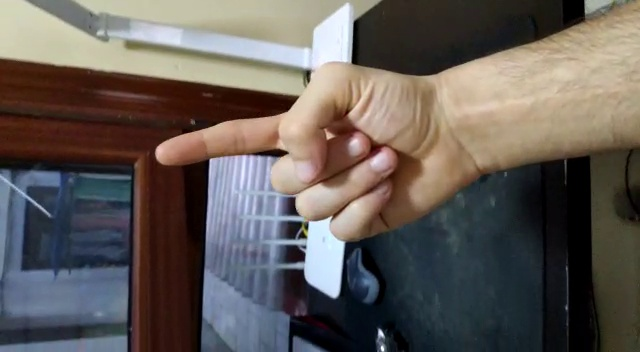One: (154, 61, 441, 232)
